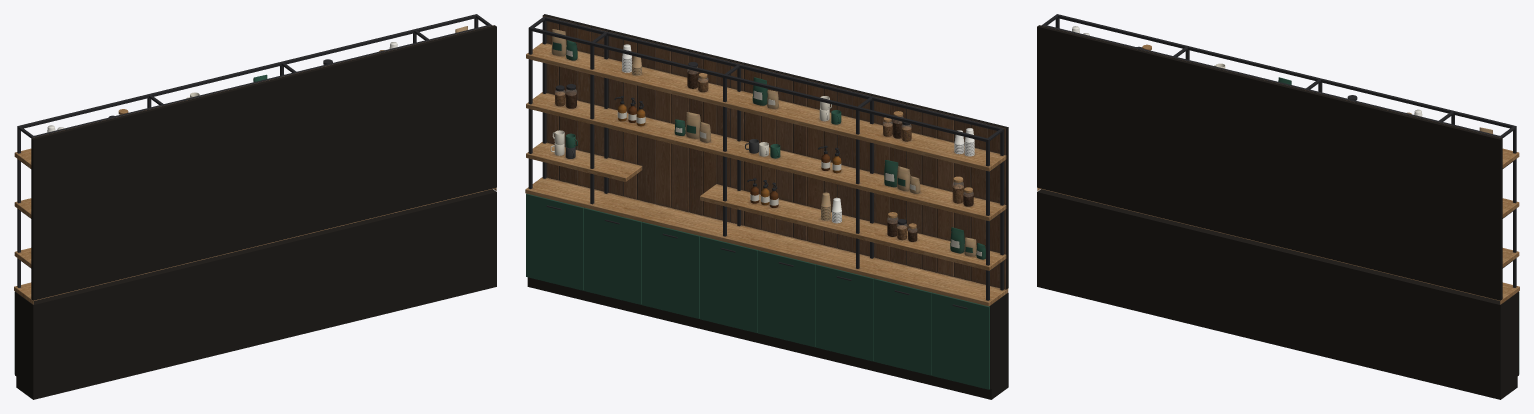
The model's file is PH_BackShelf__Body.fbx.
3 views of the same model, side by side, from view 1: azimuth 30°, elevation 25°; view 2: azimuth 150°, elevation 25°; view 3: azimuth 330°, elevation 25° (orthographic).
Parts seen in each view (by area): view 1: PH_BackShelf__Body; view 2: PH_BackShelf__Body; view 3: PH_BackShelf__Body.
Boxes of the visible parts, box(x1,y1,x2,y2) form: PH_BackShelf__Body: box(14, 14, 496, 399); PH_BackShelf__Body: box(525, 14, 1008, 399); PH_BackShelf__Body: box(1037, 14, 1519, 399).
Bounding box in the file's own units: 4.4 × 2.36 × 0.325.
